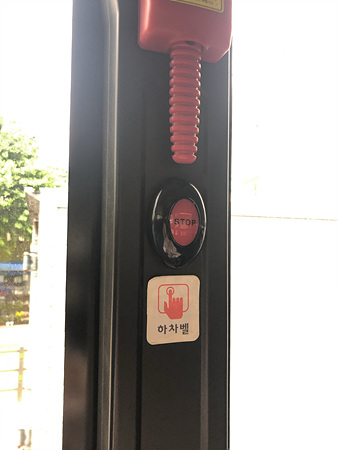bell: (152, 179, 208, 269)
